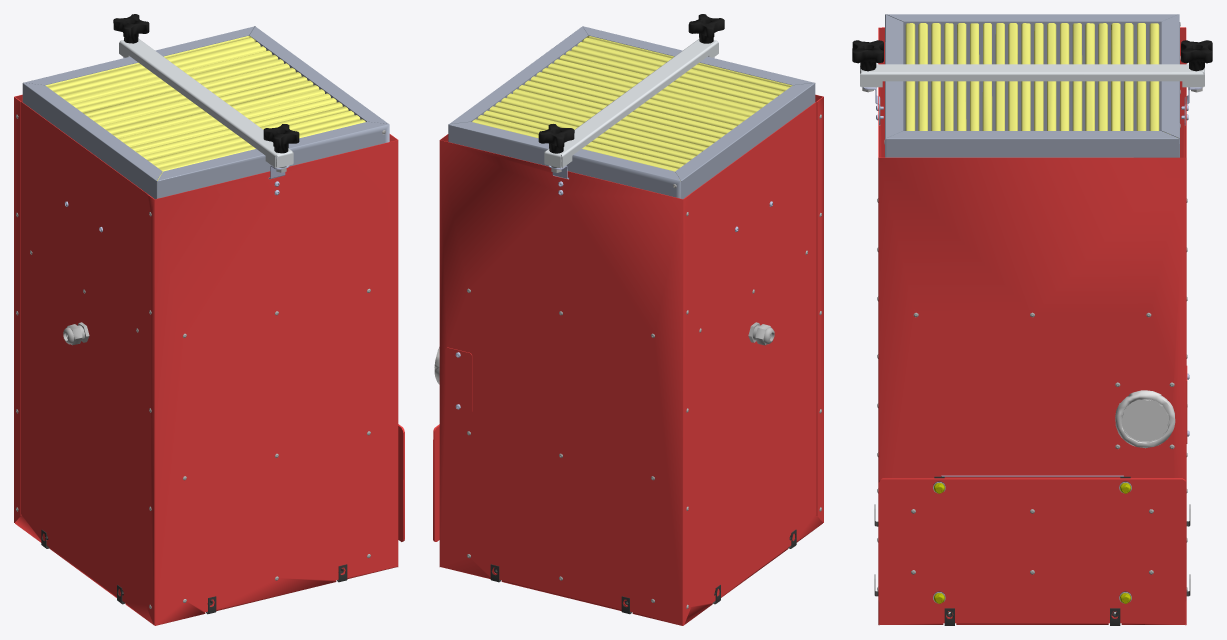
The picture shows the model from 3 angles, left to right: view 1: azimuth 30°, elevation 25°; view 2: azimuth 150°, elevation 25°; view 3: azimuth 270°, elevation 25°; orthographic projection. The views are drawn at different scales.
Visible parts, largest first — view 1: n195, n197, n104, n93, n234, n92, n224, n24, n23; view 2: n195, n197, n104, n92, n93, n234, n209, n224, n23, n24; view 3: n195, n224, n104, n93, n92, n234, n11, n197, n23, n24.
Boxes of the visible parts, bbox=[...] form: n195: bbox=[14, 94, 398, 625]; n197: bbox=[15, 97, 155, 625]; n104: bbox=[45, 36, 365, 180]; n93: bbox=[22, 83, 389, 199]; n234: bbox=[119, 38, 293, 168]; n92: bbox=[23, 26, 388, 123]; n224: bbox=[398, 424, 404, 541]; n24: bbox=[113, 14, 149, 43]; n23: bbox=[263, 124, 299, 153]; n195: bbox=[439, 94, 823, 625]; n197: bbox=[682, 97, 822, 625]; n104: bbox=[472, 36, 792, 171]; n92: bbox=[448, 26, 680, 198]; n93: bbox=[583, 26, 815, 198]; n234: bbox=[544, 39, 718, 168]; n209: bbox=[445, 347, 472, 412]; n224: bbox=[433, 424, 439, 541]; n23: bbox=[688, 14, 724, 43]; n24: bbox=[538, 124, 574, 153]; n195: bbox=[878, 27, 1186, 625]; n224: bbox=[878, 478, 1186, 604]; n104: bbox=[905, 23, 1176, 137]; n93: bbox=[885, 14, 1178, 157]; n92: bbox=[885, 14, 1179, 157]; n234: bbox=[860, 64, 1204, 87]; n11: bbox=[1115, 390, 1175, 448]; n197: bbox=[880, 27, 1184, 157]; n23: bbox=[852, 40, 883, 71]; n24: bbox=[1181, 40, 1212, 71].
Size of the model in its own units: 0.4275 by 0.6962 by 0.4423.
